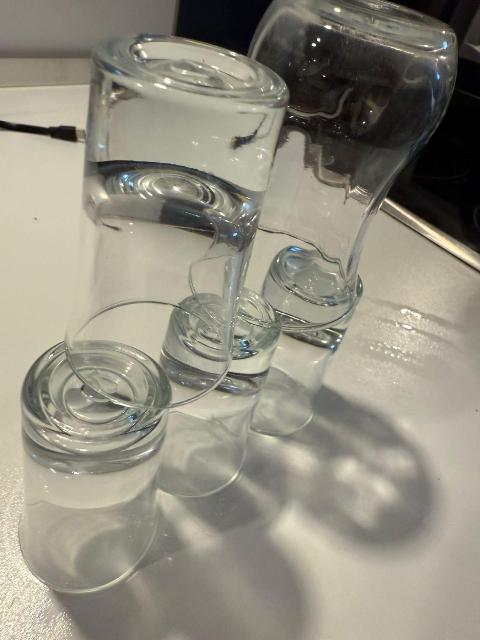Cam: (21, 0, 453, 589), (255, 0, 455, 349), (77, 33, 259, 403), (25, 327, 165, 583), (159, 299, 265, 487), (249, 249, 355, 433)
